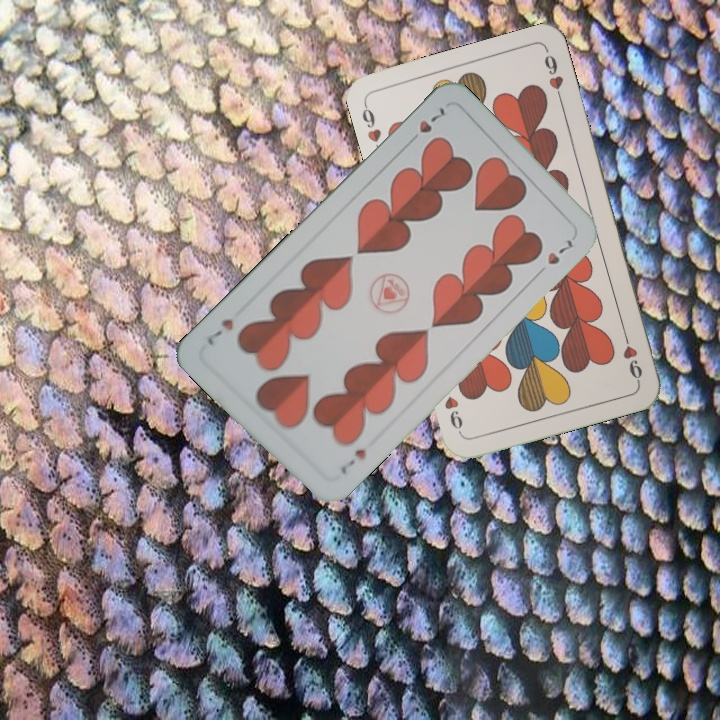H7: (403, 103, 450, 148), (336, 445, 369, 478)
H9: (619, 327, 645, 385), (358, 99, 384, 157)
